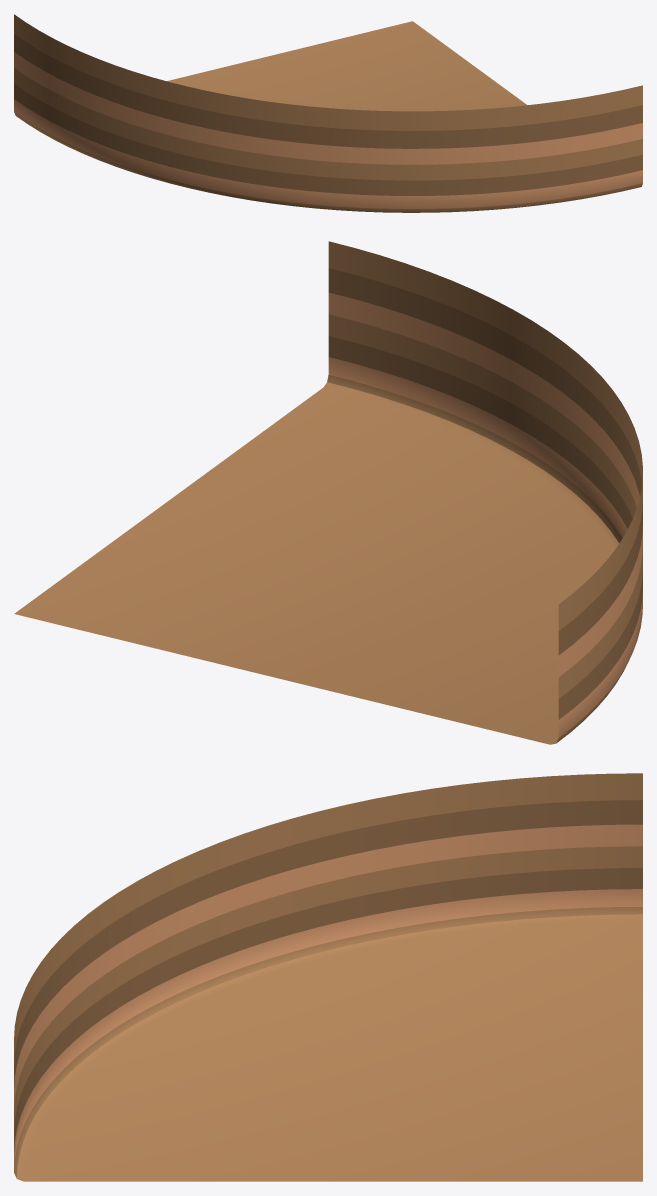
Rendered from platform_grass_corner_round4_bottom_tall.gltf.
3 views of the same model, one above another, from view 1: azimuth 30°, elevation 25°; view 2: azimuth 150°, elevation 25°; view 3: azimuth 270°, elevation 25° (orthographic). The views are drawn at different scales.
Parts seen in each view (by area): view 1: Cube_Grass_Corner_Round4Bottom_Tall; view 2: Cube_Grass_Corner_Round4Bottom_Tall; view 3: Cube_Grass_Corner_Round4Bottom_Tall.
Boxes of the visible parts, box(x1,y1,x2,y2) form: Cube_Grass_Corner_Round4Bottom_Tall: box(14, 14, 642, 212); Cube_Grass_Corner_Round4Bottom_Tall: box(14, 241, 642, 744); Cube_Grass_Corner_Round4Bottom_Tall: box(14, 773, 642, 1181).
Bounding box in the file's own units: 8 × 2 × 8.
